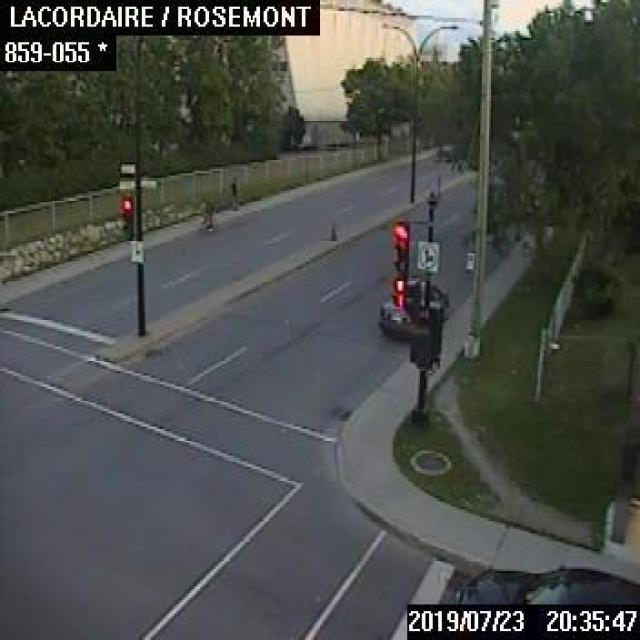cyclist: (197, 190, 218, 232)
pedestrian: (229, 175, 236, 208)
vehicle: (456, 564, 638, 602), (378, 276, 448, 337)
